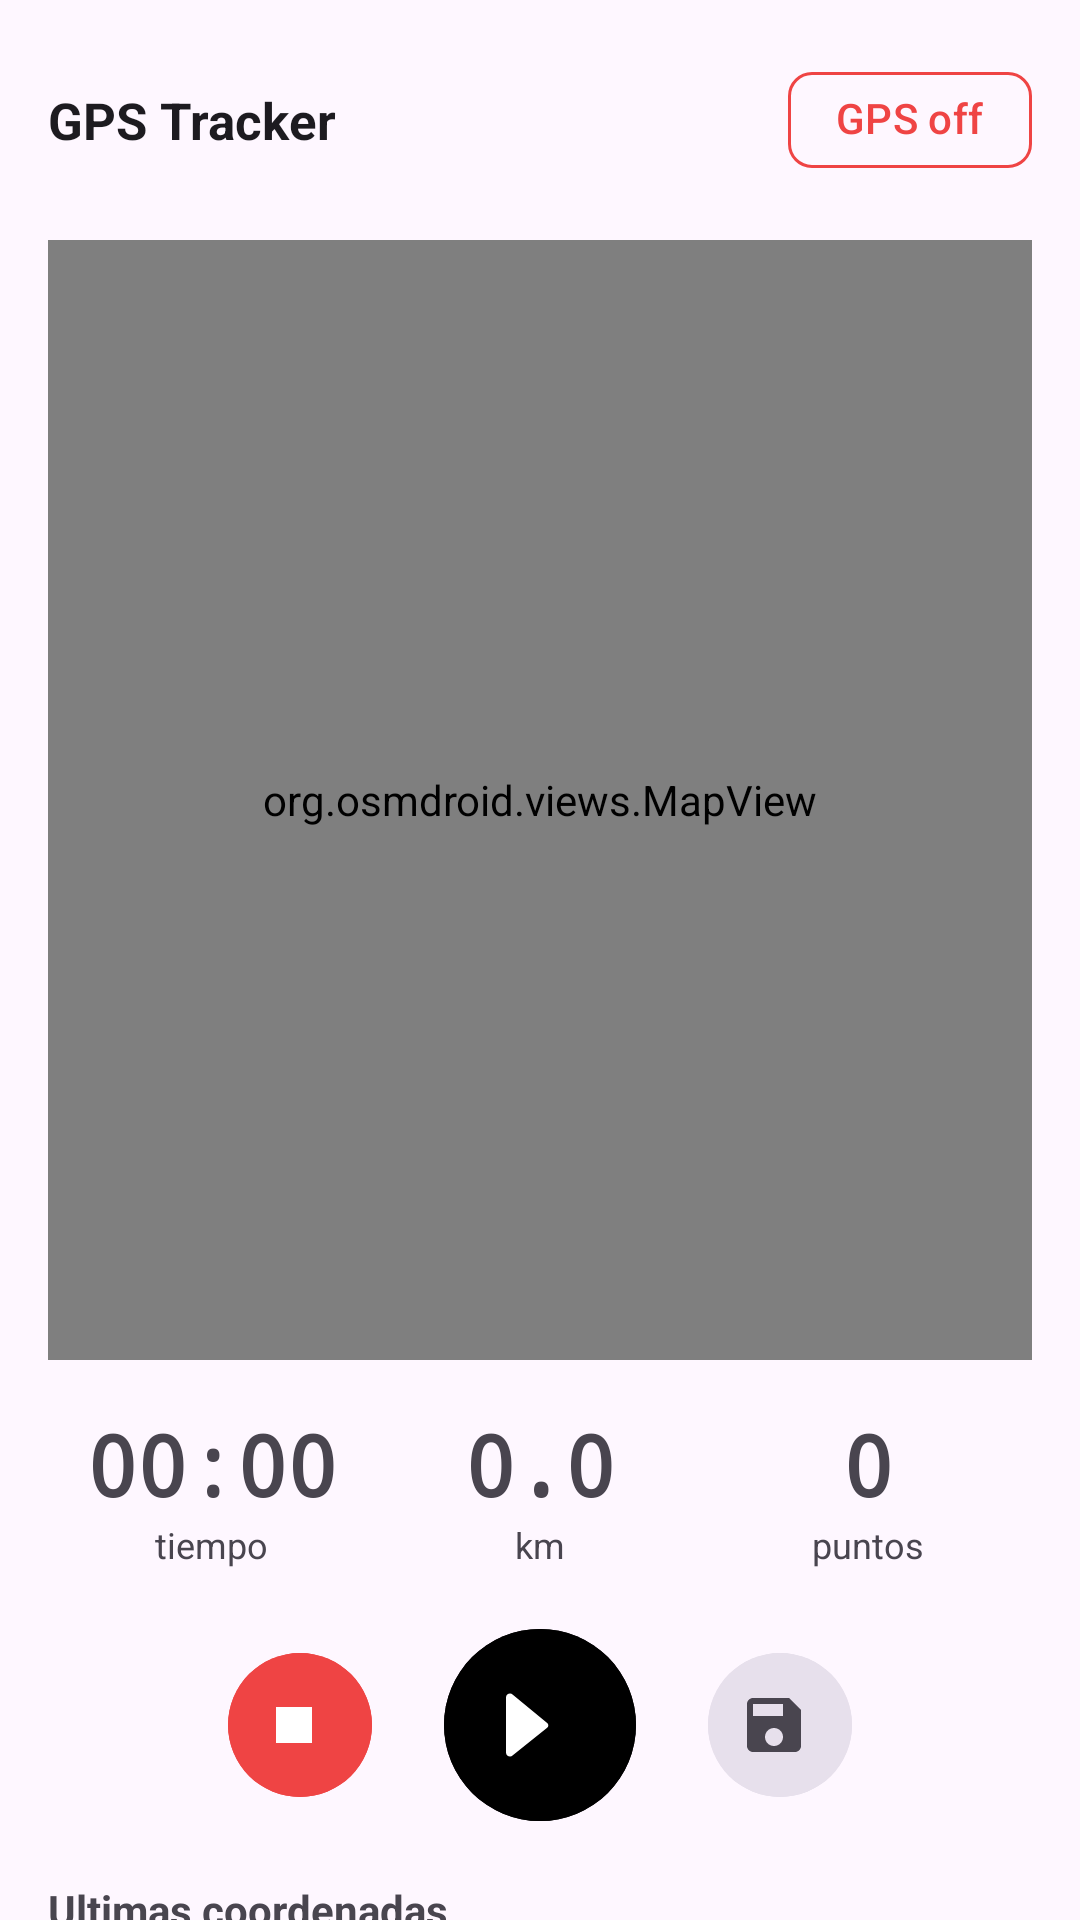

Named icons in this screenshot (1080×1920) and their bounding boxes, (x1, y1, x2, y2):
play: (444, 1629, 636, 1821)
save: (747, 1698, 801, 1752)
stop: (228, 1653, 372, 1797)
